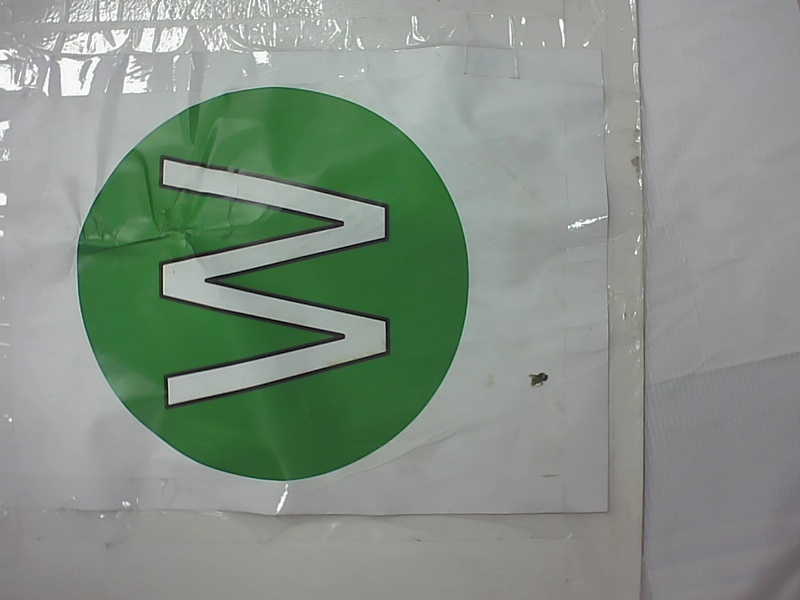areaB: (56, 71, 488, 499)
